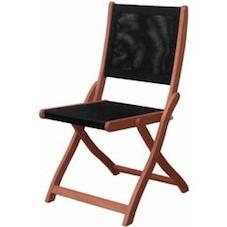chair: (34, 0, 198, 218)
